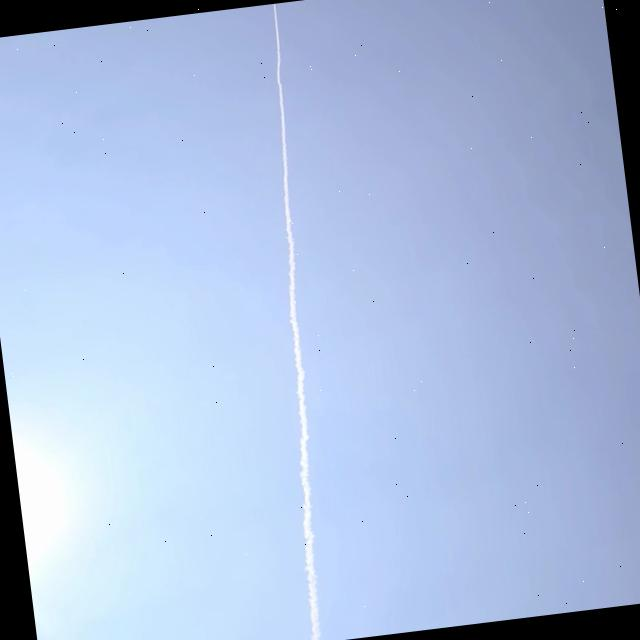smoke_trail_no_rocket: (281, 145, 320, 640)
